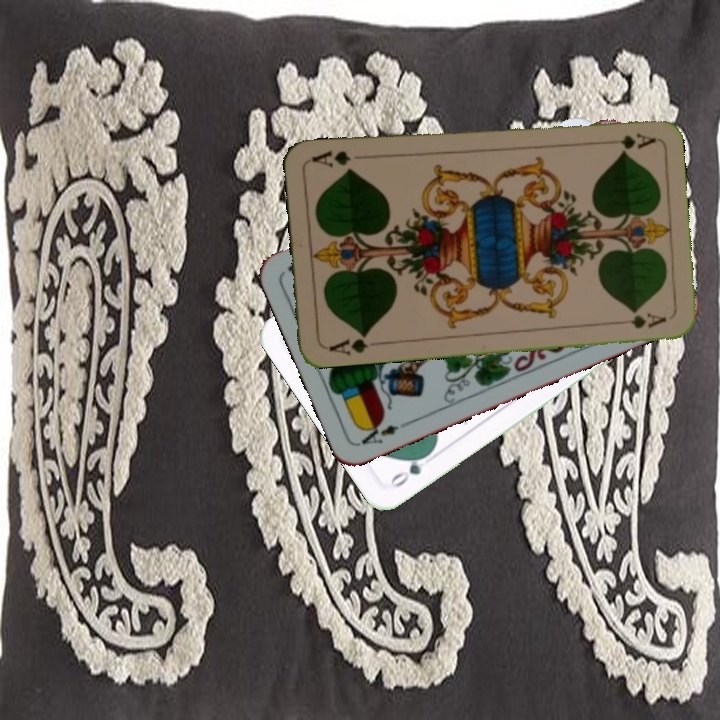EA: (357, 416, 412, 447)
GA: (325, 328, 371, 357), (598, 129, 657, 149)
GO: (385, 447, 434, 491)
